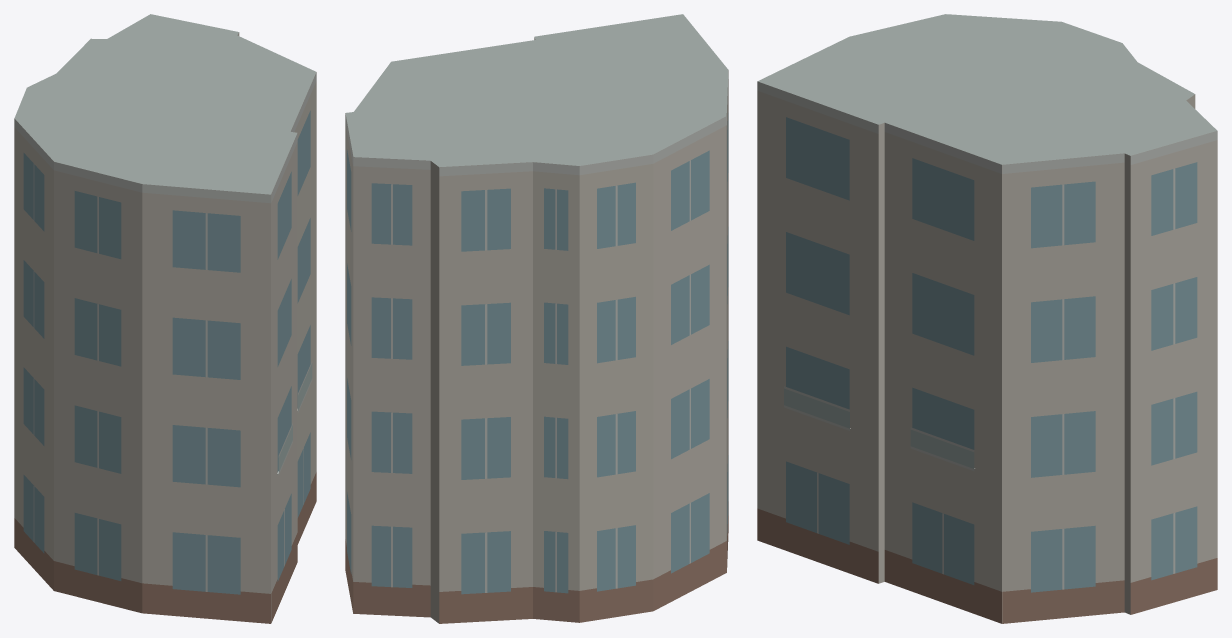
The model's file is survey-upis-32613362.glb.
3 views of the same model, side by side, from view 1: azimuth 30°, elevation 25°; view 2: azimuth 150°, elevation 25°; view 3: azimuth 270°, elevation 25° (orthographic). The views are drawn at different scales.
Parts seen in each view (by area): view 1: survey-upis-32613362.tmp; view 2: survey-upis-32613362.tmp; view 3: survey-upis-32613362.tmp.
Boxes of the visible parts, left/top/right/bottom form: survey-upis-32613362.tmp: left=14, top=14, right=316, bottom=623; survey-upis-32613362.tmp: left=345, top=14, right=728, bottom=623; survey-upis-32613362.tmp: left=757, top=14, right=1217, bottom=623.
Bounding box in the file's own units: 8.54 × 12.1 × 11.01.
